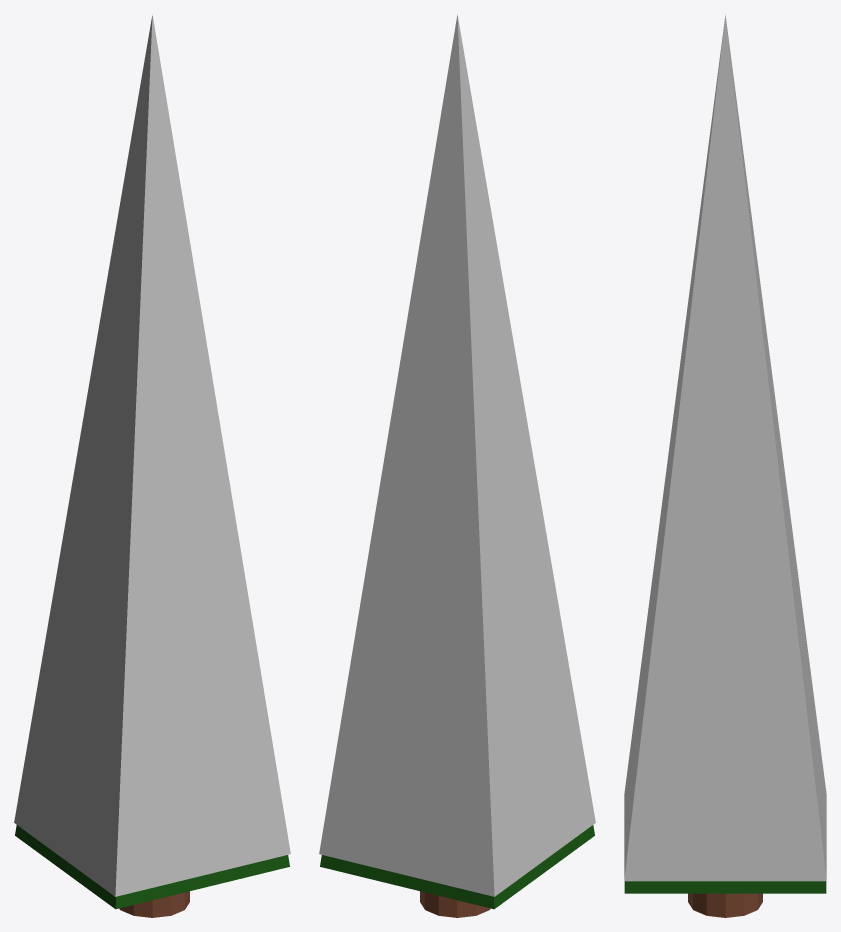
The model's file is Tree_19_winter_mat.fbx.
3 renders of one model, left to right at view 1: azimuth 30°, elevation 25°; view 2: azimuth 150°, elevation 25°; view 3: azimuth 270°, elevation 25°, orthographic.
Parts seen in each view (by area): view 1: Tree_19_winter_mat; view 2: Tree_19_winter_mat; view 3: Tree_19_winter_mat.
Part boxes in pixels (x1=…): Tree_19_winter_mat: x1=14, y1=14, x2=290, y2=917; Tree_19_winter_mat: x1=319, y1=14, x2=595, y2=917; Tree_19_winter_mat: x1=624, y1=14, x2=826, y2=917.
Bounding box in the file's own units: 2.4 × 11.61 × 2.4.
